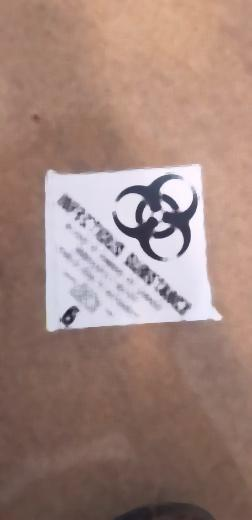infectious-substance: (48, 172, 221, 333)
